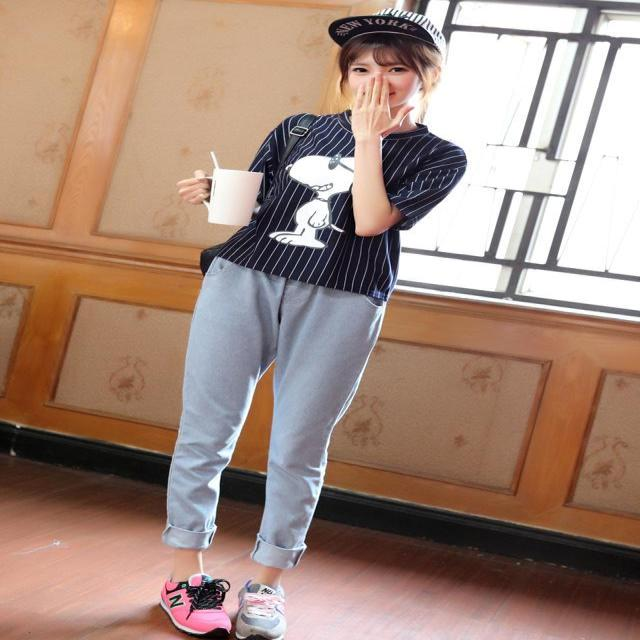short sleeve top: (207, 107, 467, 299)
trousers: (165, 246, 384, 568)
